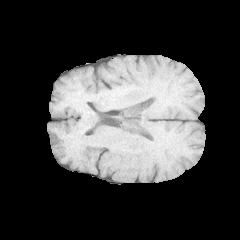glioma: (81, 119, 114, 145)
